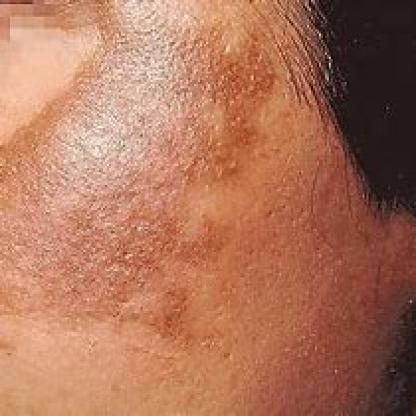darkspot: (0, 0, 280, 347)
